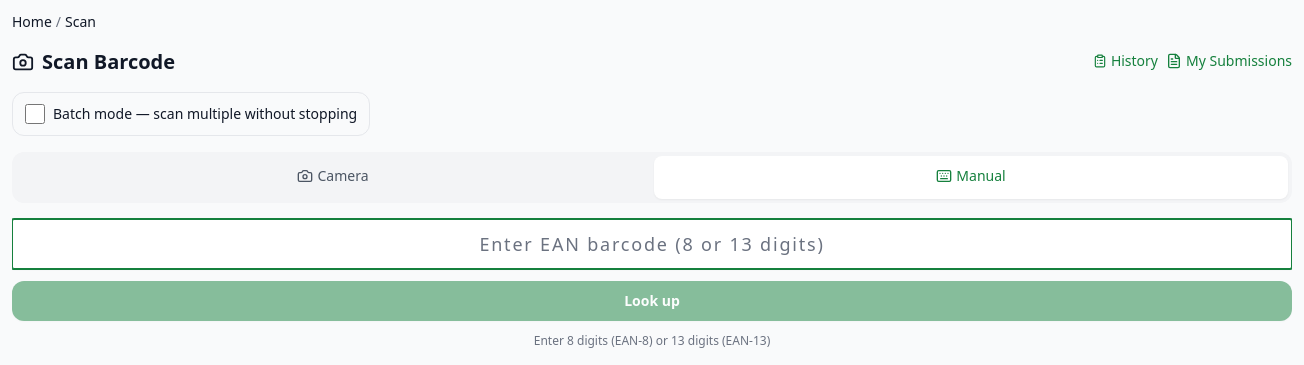
Test: ScanPage › shows not-found state with submission CTA
Step 1. Click the button "Manual" → (971, 178), box [654, 156, 1288, 199]
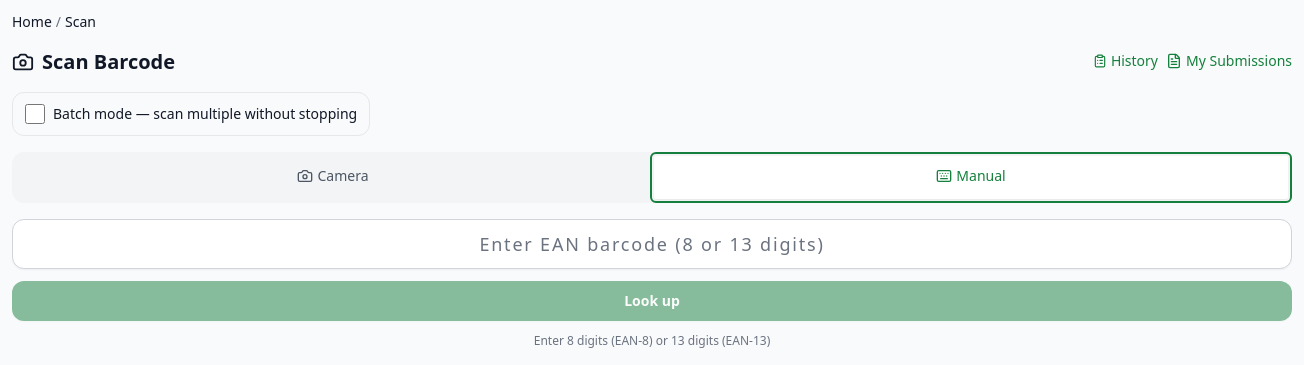
Step 2. Type "5901234123457" into the field with placeholder "Enter EAN barcode (8 or 13 digits)" → (652, 244), box [12, 219, 1292, 269]
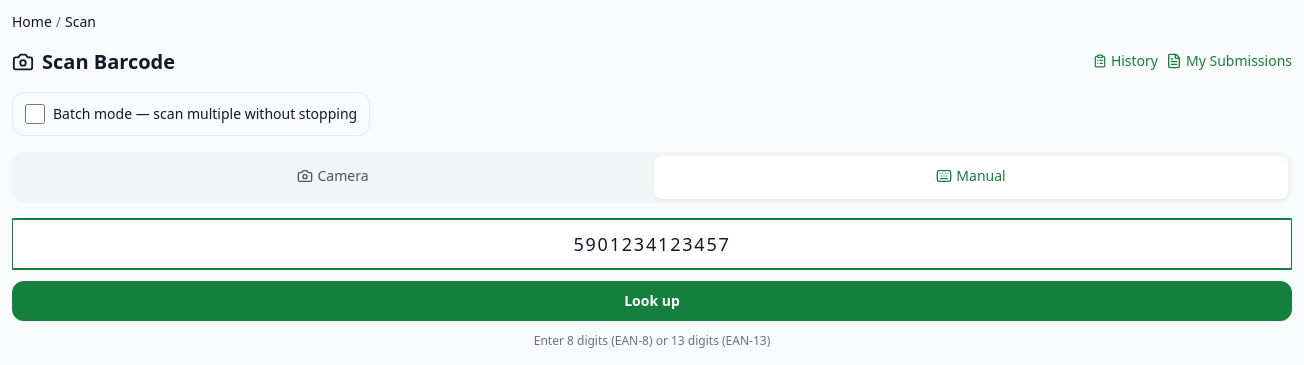
Step 3. Click the button "Look up" → (652, 301), box [12, 281, 1292, 321]
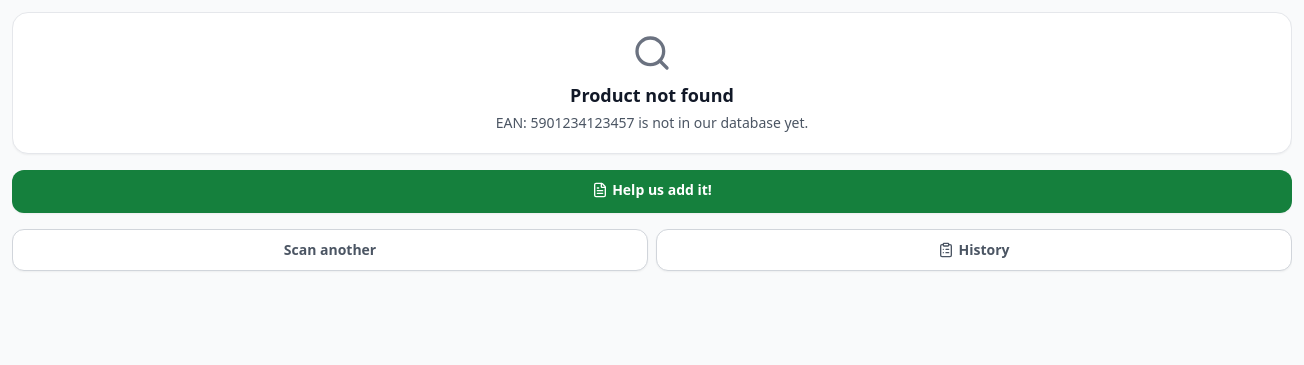
Check: the text "Product not found" is shown, box [570, 83, 734, 107]
Check: the text "EAN: 5901234123457 is not in our database yet." is shown, box [496, 113, 808, 132]
Check: the text "Help us add it!" is shown, box [592, 180, 712, 200]
